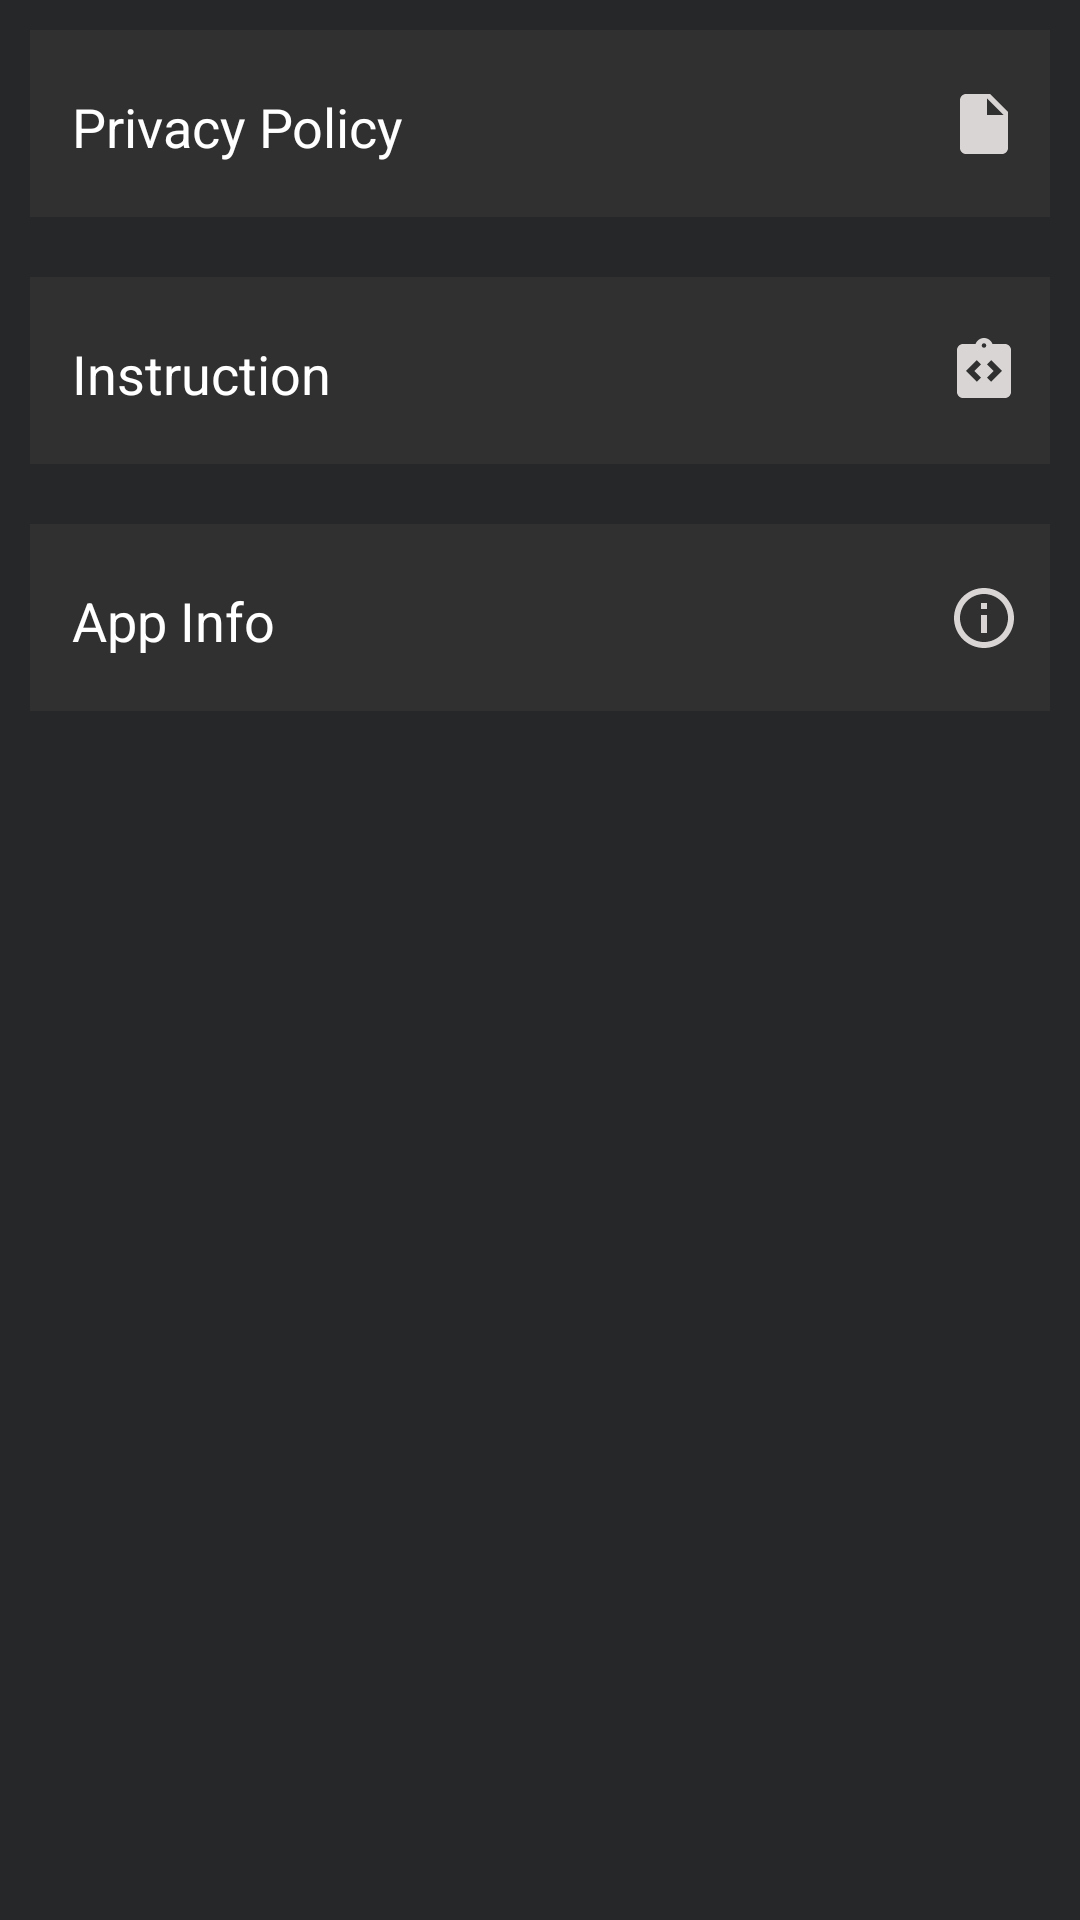

Point at icon controls on the screen. Image size 1080 x 1920, points as (x,y).
insert drive file: (984,124)
